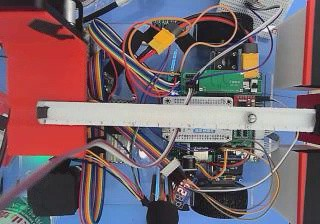ironball: (246, 112, 257, 124)
